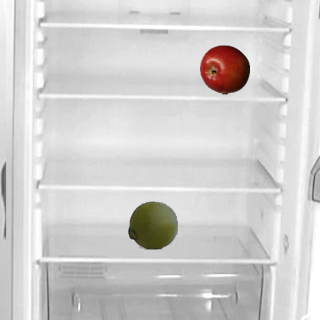Apple Braeburn: (199, 44, 249, 94)
Grape White 4: (127, 199, 177, 249)
